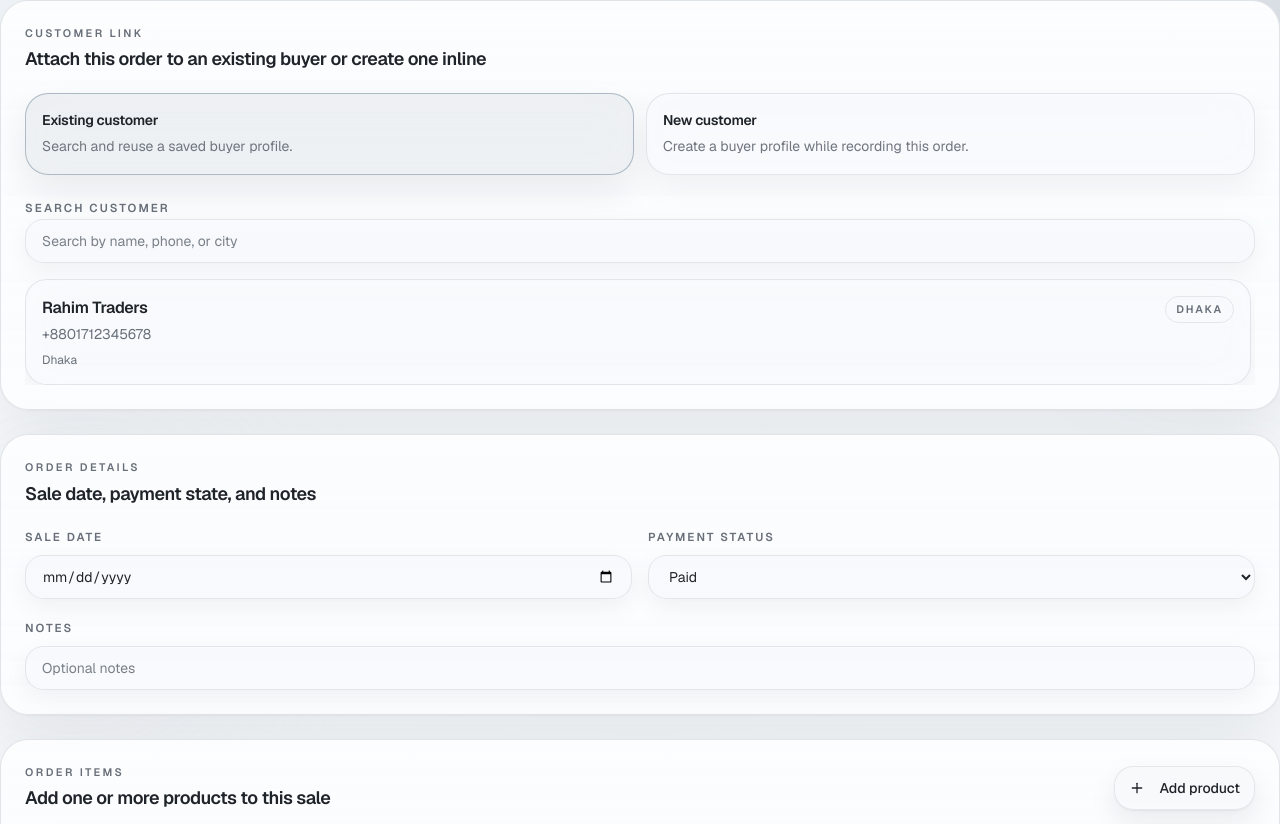
Test: SaleForm › renders inline new customer fields when toggled
Click the button "New customer". click: (710, 120)
box: [646,93,1255,175]
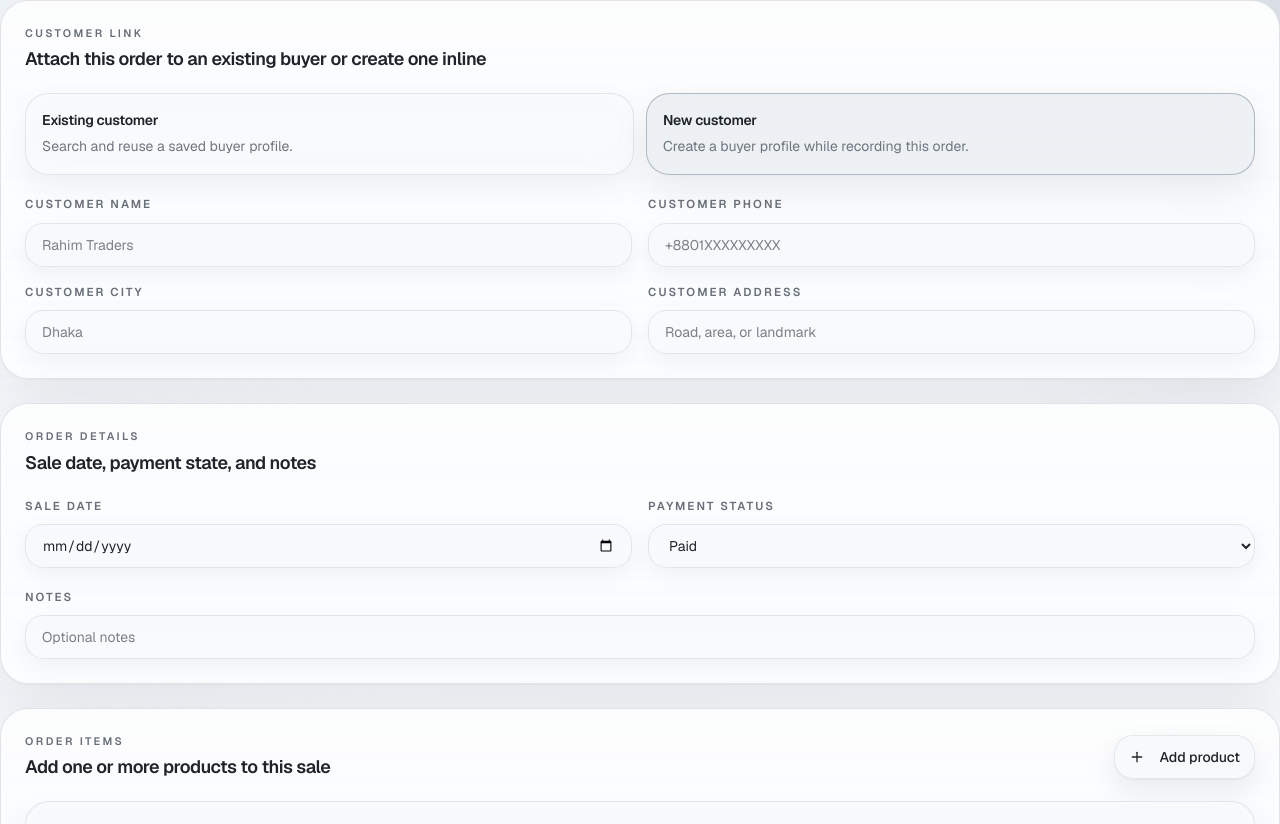
Expected: the field labelled "Customer name" is shown, [25,223,632,267]
Expected: the field labelled "Customer phone" is shown, [648,223,1255,267]
Expected: the field labelled "Customer address" is shown, [648,310,1255,354]
